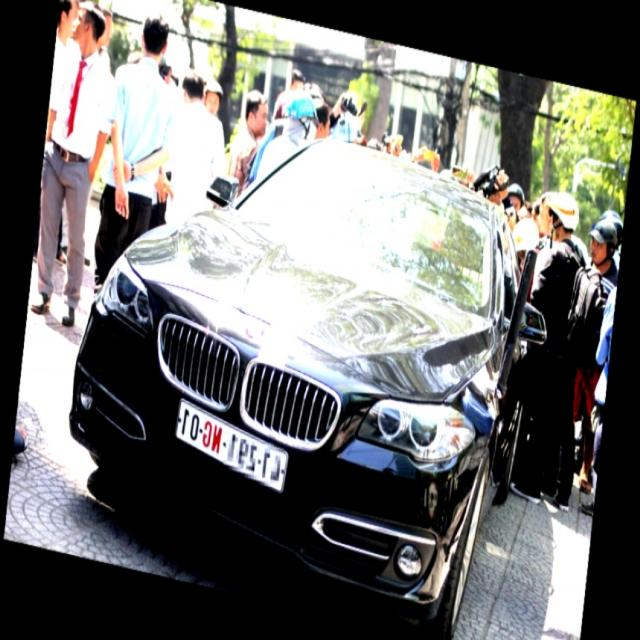bien_ngoai_giao: (176, 408, 285, 492)
